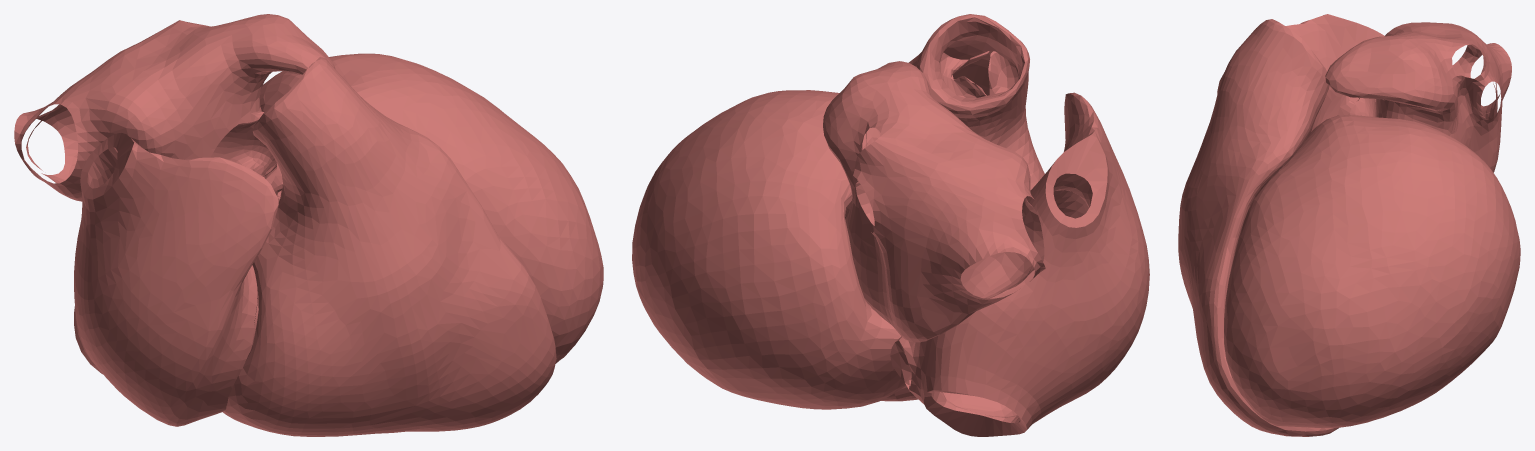
Rendered from VH_F_Heart_0.4.glb.
3 views of the same model, side by side, from view 1: azimuth 30°, elevation 25°; view 2: azimuth 150°, elevation 25°; view 3: azimuth 270°, elevation 25° (orthographic). The views are drawn at different scales.
Visible parts, largest first — view 1: VH_F_right_ventricle, VH_F_right_cardiac_atrium, VH_F_left_ventricle, VH_F_left_cardiac_atrium, VH_F_aortic_valve; view 2: VH_F_left_ventricle, VH_F_right_cardiac_atrium, VH_F_left_cardiac_atrium, VH_F_right_ventricle, VH_F_pulmonary_valve; view 3: VH_F_left_ventricle, VH_F_right_ventricle, VH_F_left_cardiac_atrium, VH_F_right_cardiac_atrium, VH_F_aortic_valve.
Part boxes in pixels (x1,y1,x2,y2): VH_F_right_ventricle: [222, 57, 556, 436]; VH_F_right_cardiac_atrium: [74, 133, 278, 426]; VH_F_left_ventricle: [259, 53, 603, 363]; VH_F_left_cardiac_atrium: [14, 14, 335, 201]; VH_F_aortic_valve: [210, 111, 282, 201]; VH_F_left_ventricle: [632, 90, 906, 409]; VH_F_right_cardiac_atrium: [890, 92, 1149, 436]; VH_F_left_cardiac_atrium: [823, 61, 1045, 342]; VH_F_right_ventricle: [881, 14, 1044, 401]; VH_F_pulmonary_valve: [939, 51, 1018, 109]; VH_F_left_ventricle: [1224, 114, 1520, 427]; VH_F_right_ventricle: [1178, 19, 1338, 436]; VH_F_left_cardiac_atrium: [1325, 22, 1511, 172]; VH_F_right_cardiac_atrium: [1217, 14, 1384, 101]; VH_F_aortic_valve: [1311, 86, 1376, 131].
Bounding box in the file's own units: 0.1425 × 0.1101 × 0.1015.
